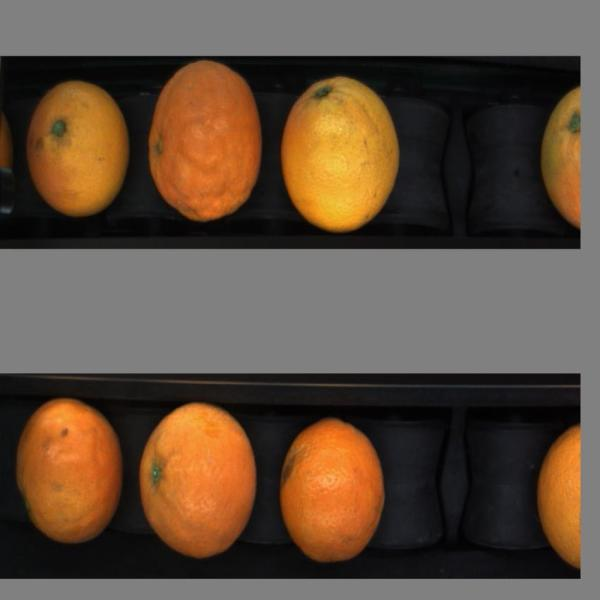Otros defectos: (146, 61, 264, 226), (276, 413, 396, 570), (12, 392, 128, 553)
Sana: (136, 397, 265, 562), (279, 74, 405, 232), (22, 79, 132, 218), (529, 416, 582, 579), (533, 80, 581, 239)
